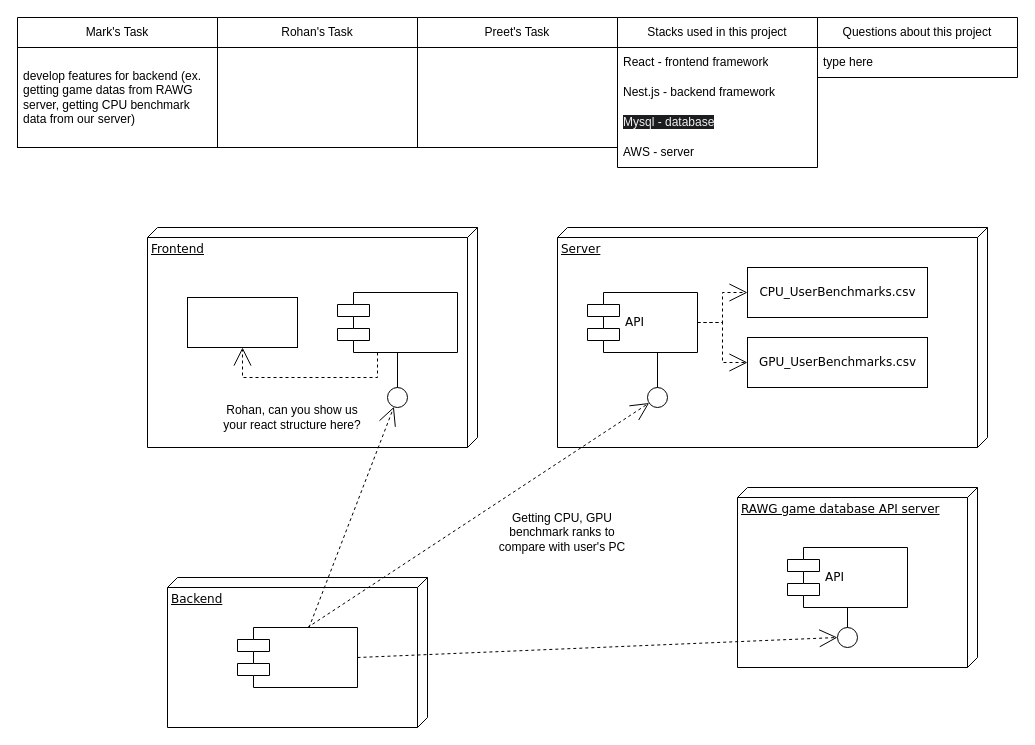
Image size: 1035x745. Some labels were removed from this diagram. Here are the shapes that lost their labels. From the top down, the centre of each, then its label:
(317,97): develop frontend side of this project
(517,97): develop api for getting CPU, GPU benchmark datas form the server
(242,322): «interface» Name
(397,322): Module
(297,657): features.js
